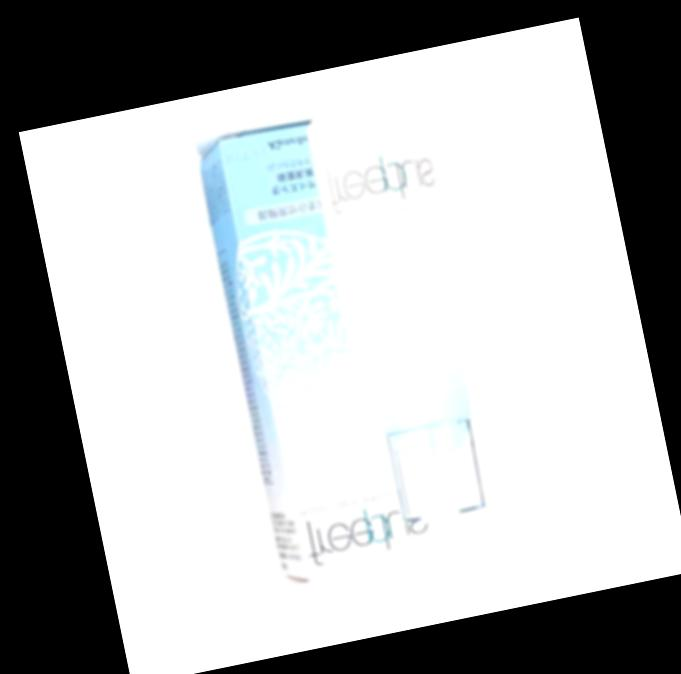cosmetic: (299, 90, 509, 530)
